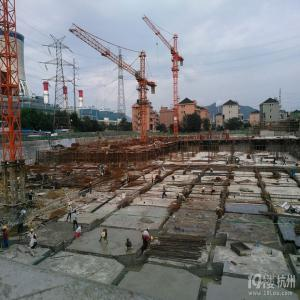none: (34, 236, 37, 240), (81, 226, 84, 230), (127, 239, 130, 243), (75, 211, 77, 215)
yellow: (4, 227, 8, 232), (31, 229, 34, 234), (151, 237, 154, 241), (147, 229, 150, 233), (69, 203, 71, 207), (91, 182, 93, 185), (182, 195, 184, 197)
